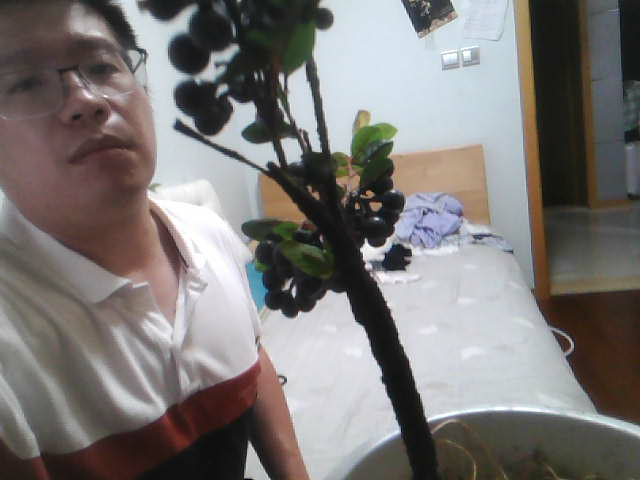blueberry: (161, 32, 208, 73), (433, 448, 479, 480), (171, 77, 211, 113), (159, 36, 206, 66), (299, 151, 338, 187), (193, 9, 231, 44), (195, 98, 232, 133), (168, 75, 207, 106), (240, 22, 272, 50), (374, 186, 406, 214)
